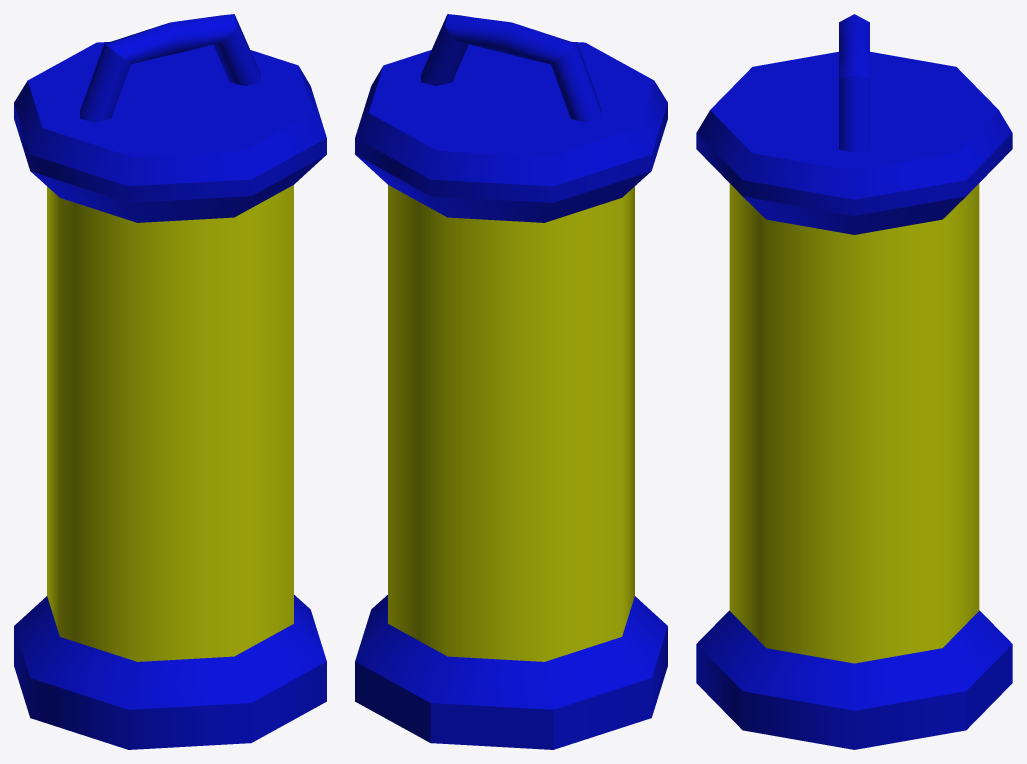
File: powercell.fbx
3 renders of one model, left to right at view 1: azimuth 30°, elevation 25°; view 2: azimuth 150°, elevation 25°; view 3: azimuth 270°, elevation 25°, orthographic. The views are drawn at different scales.
Parts seen in each view (by area): view 1: geo_powercell; view 2: geo_powercell; view 3: geo_powercell.
Boxes of the visible parts, x1=… form: geo_powercell: x1=14, y1=14, x2=326, y2=749; geo_powercell: x1=355, y1=14, x2=667, y2=749; geo_powercell: x1=696, y1=14, x2=1012, y2=749.
Bounding box in the file's own units: 100 × 225 × 100.
